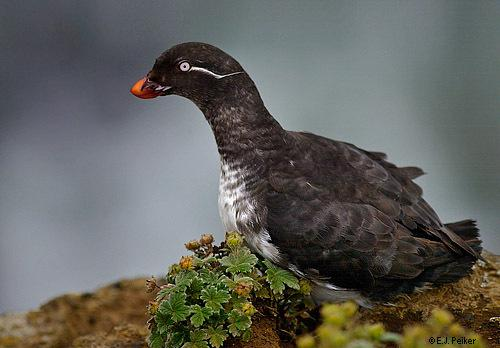007.Parakeet_Auklet: (129, 40, 491, 313)
